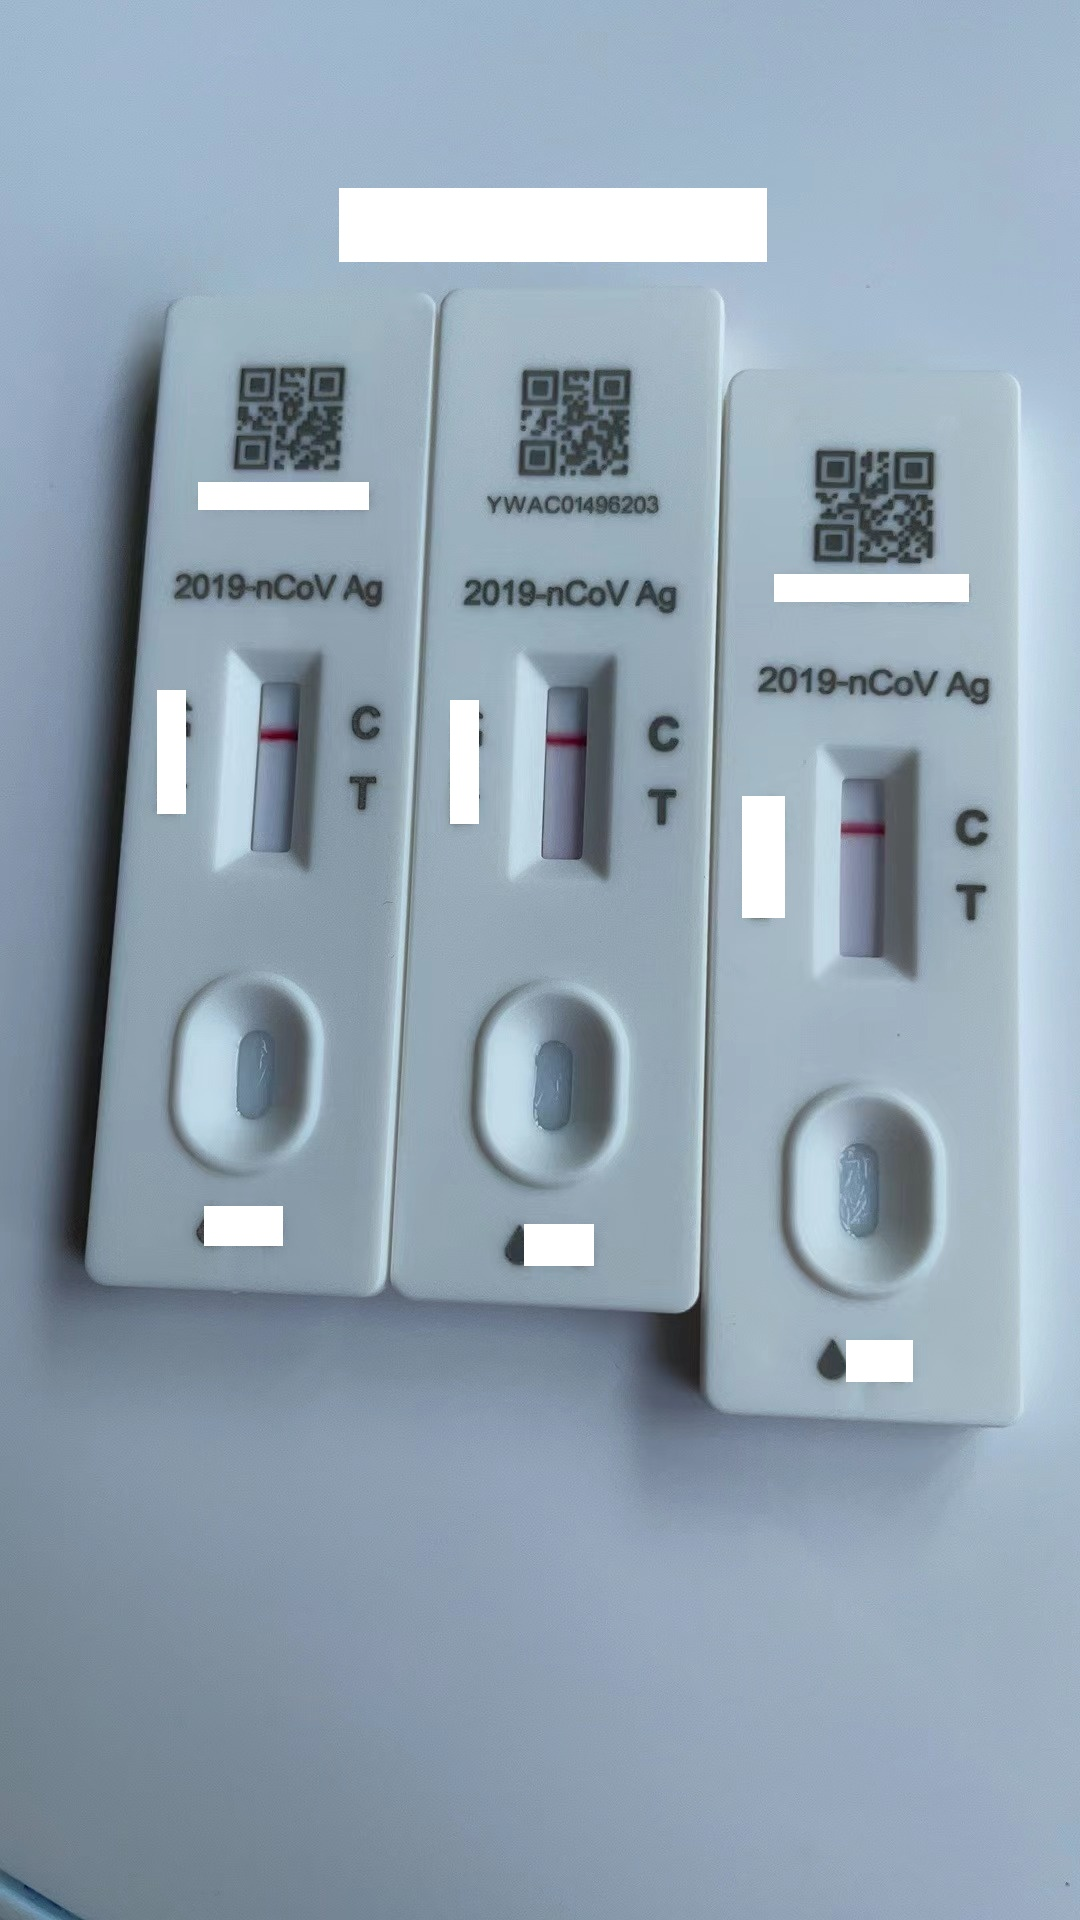negative: (819, 745, 920, 986), (235, 650, 322, 876), (530, 659, 612, 882)
positive: (531, 665, 609, 874), (243, 658, 315, 862)
